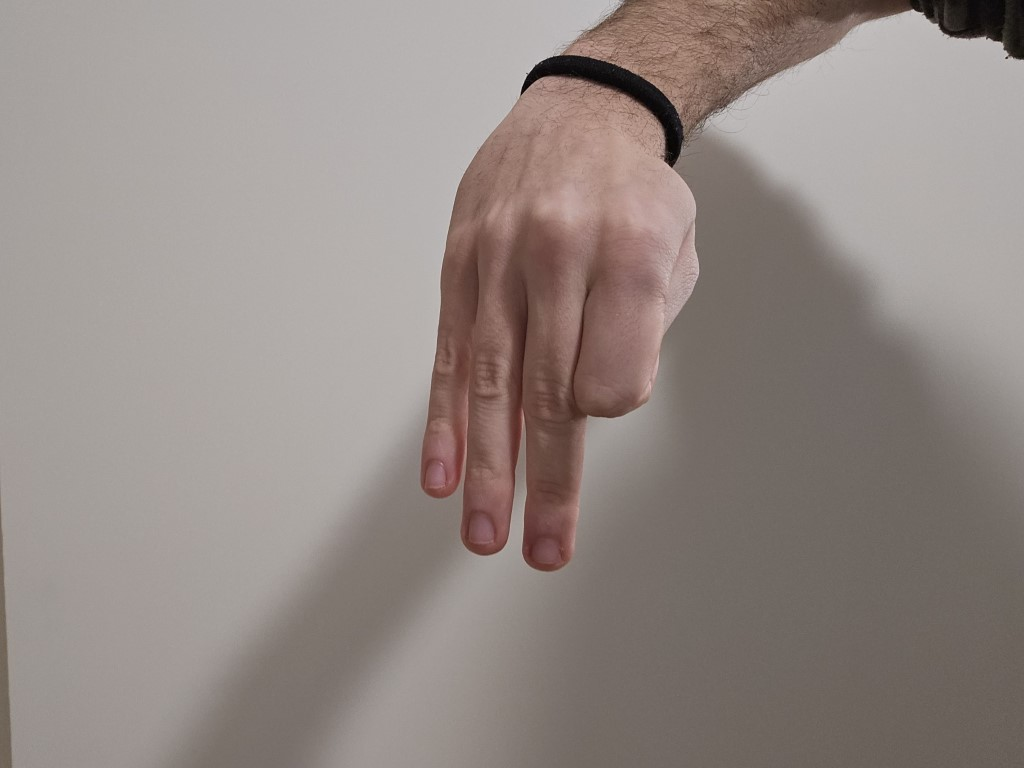m: (381, 100, 715, 597)
